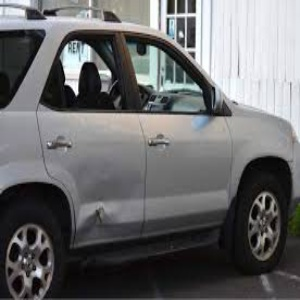door: (72, 160, 139, 241)
